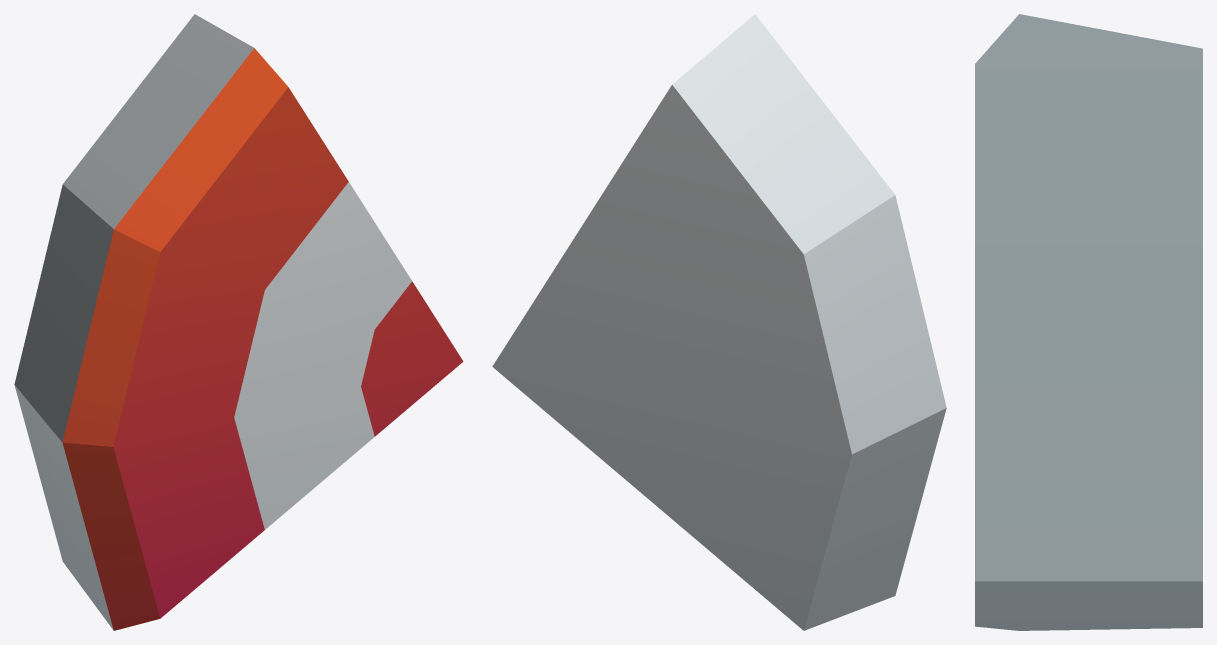
Rendered from target_pieces_E.glb.
3 views of the same model, side by side, from view 1: azimuth 30°, elevation 25°; view 2: azimuth 150°, elevation 25°; view 3: azimuth 270°, elevation 25° (orthographic). The views are drawn at different scales.
Visible parts, largest first — view 1: target_pieces_E; view 2: target_pieces_E; view 3: target_pieces_E.
Boxes of the visible parts, x1,y1,x2,y2 form: target_pieces_E: (14, 14, 463, 630); target_pieces_E: (492, 14, 946, 630); target_pieces_E: (975, 14, 1202, 630).
Bounding box in the file's own units: 0.5 × 0.683 × 0.2.
1 material, 1 textured.
